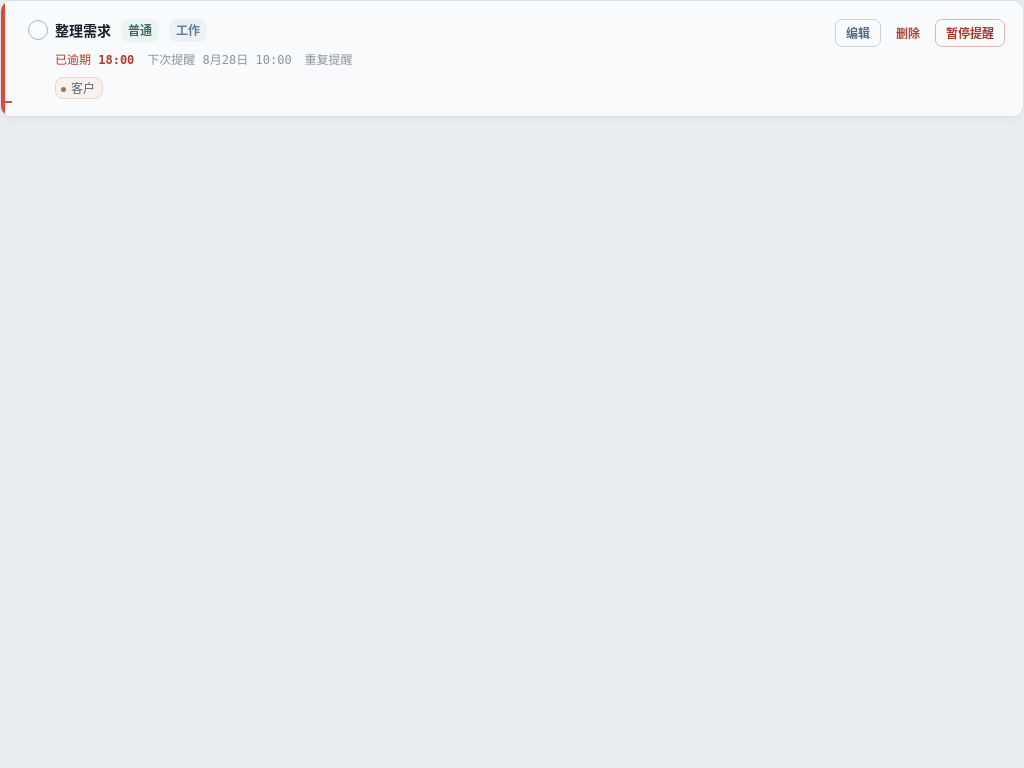
ItemCard › opens a complete item editor with type and tag choices
Click the button "编辑" at (858, 33), box [835,19,881,47]
(page scrolled)
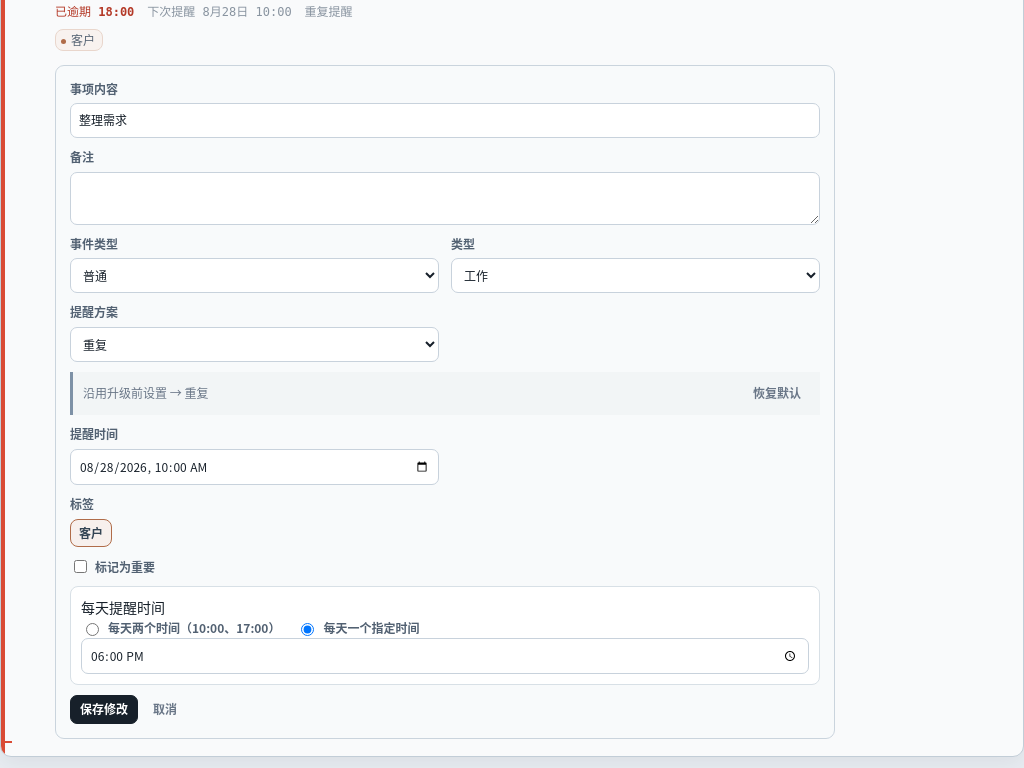
Result: the text "事项内容" is shown at [70,80,118,97]
Result: the dropdown labelled "事件类型" shows "普通" at [70,258,439,293]
Result: the dropdown labelled "类型" shows "工作" at [451,258,820,293]
